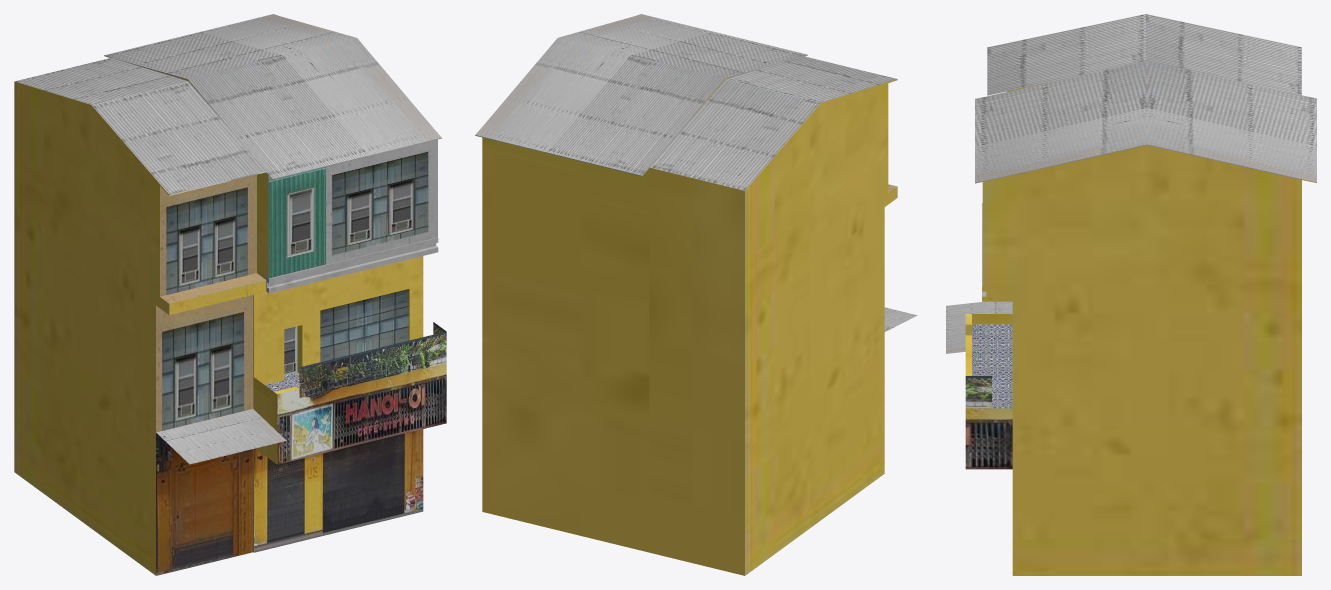
3 views of the same model, side by side, from view 1: azimuth 30°, elevation 25°; view 2: azimuth 150°, elevation 25°; view 3: azimuth 270°, elevation 25° (orthographic). The views are drawn at different scales.
Parts seen in each view (by area): view 1: HN975___Ha_Noi_oi___Bistro___So_3_Ta_Hien; view 2: HN975___Ha_Noi_oi___Bistro___So_3_Ta_Hien; view 3: HN975___Ha_Noi_oi___Bistro___So_3_Ta_Hien.
Part boxes in pixels (x1,y1,x2,y2): HN975___Ha_Noi_oi___Bistro___So_3_Ta_Hien: (14,14,446,575); HN975___Ha_Noi_oi___Bistro___So_3_Ta_Hien: (475,14,917,575); HN975___Ha_Noi_oi___Bistro___So_3_Ta_Hien: (946,14,1316,575).
Bounding box in the file's own units: 9.28 × 14.15 × 11.02.
Materials: 1 (1 with a texture image).
